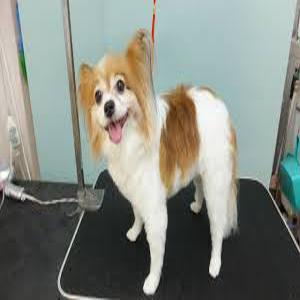yell: (76, 28, 236, 294)
